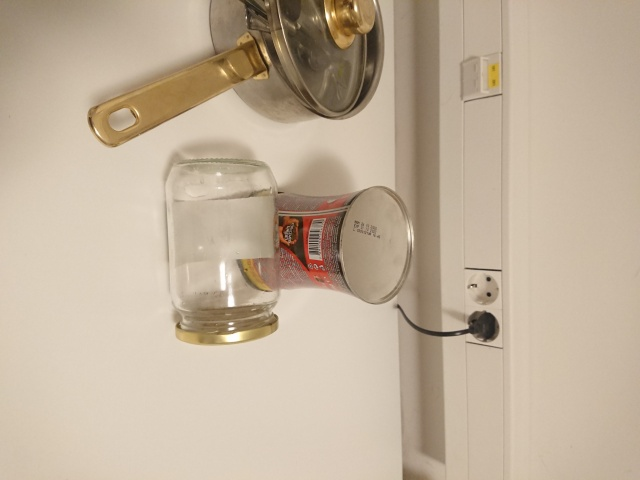Nescafe Classic 225g: (231, 183, 418, 308)
